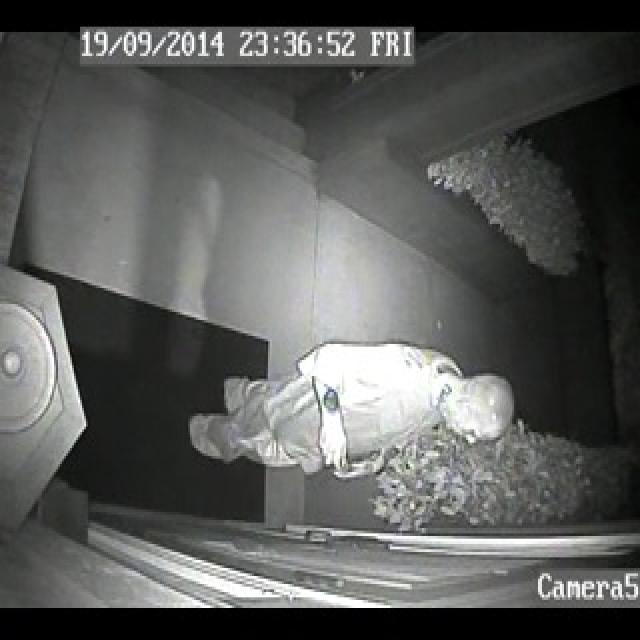thief: (183, 327, 520, 532)
